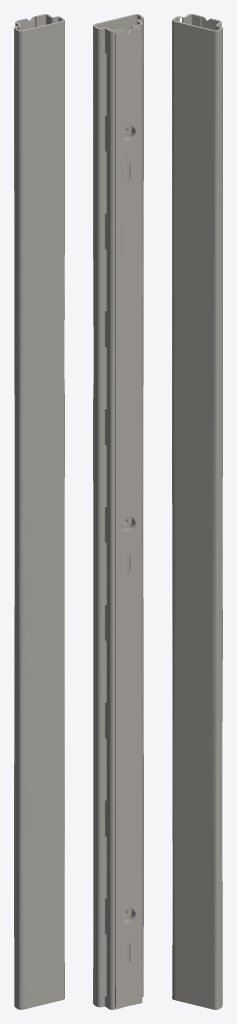
The model's file is kungsfors_szyna_do_zawieszania_80334858.glb.
3 views of the same model, side by side, from view 1: azimuth 30°, elevation 25°; view 2: azimuth 210°, elevation 25°; view 3: azimuth 330°, elevation 25° (orthographic).
Parts seen in each view (by area): view 1: kungsfors_szyna_do_zawieszania_80334858; view 2: kungsfors_szyna_do_zawieszania_80334858; view 3: kungsfors_szyna_do_zawieszania_80334858.
Boxes of the visible parts, <box> form: kungsfors_szyna_do_zawieszania_80334858: <box>14,14,64,1009</box>; kungsfors_szyna_do_zawieszania_80334858: <box>93,14,143,1009</box>; kungsfors_szyna_do_zawieszania_80334858: <box>172,14,222,1009</box>.
Bounding box in the file's own units: 0.0403 × 0.8001 × 0.0204.
1 material, 1 textured.
